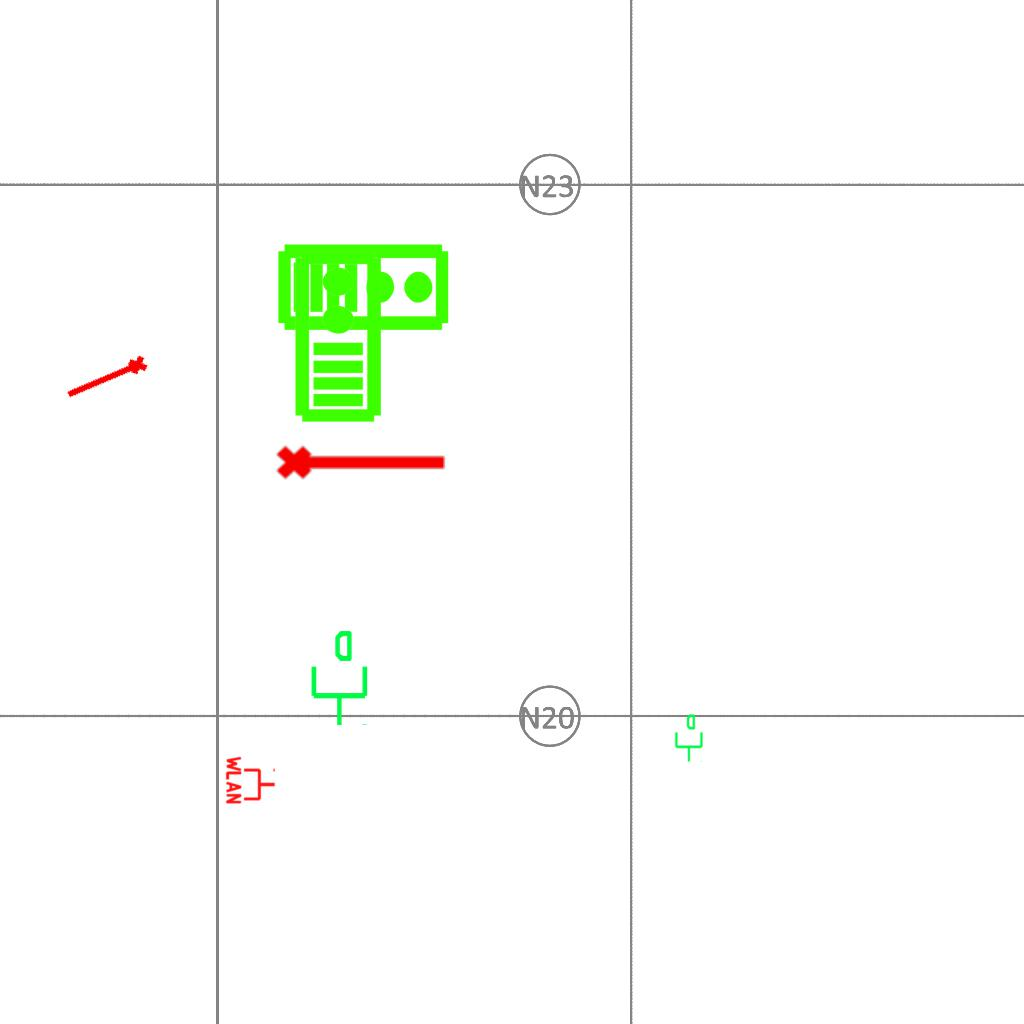ASR_Ansaugoeffnung: (274, 437, 450, 483), (62, 351, 152, 408)
Datenanschluss_einfach: (303, 628, 372, 728), (671, 713, 705, 763)
Gegensprechanlage_mit_Video: (276, 238, 452, 333), (289, 248, 384, 424)
WLAN: (225, 754, 277, 806)
